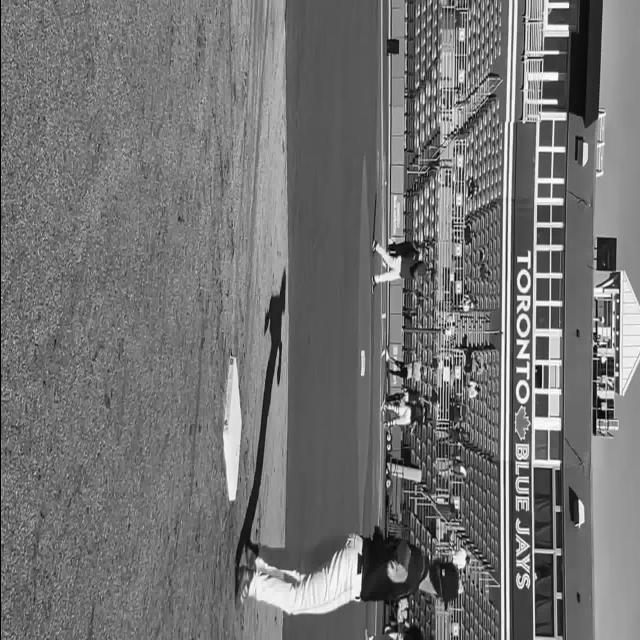base: (221, 356, 241, 500)
shoe: (234, 567, 251, 611), (242, 540, 258, 571)
